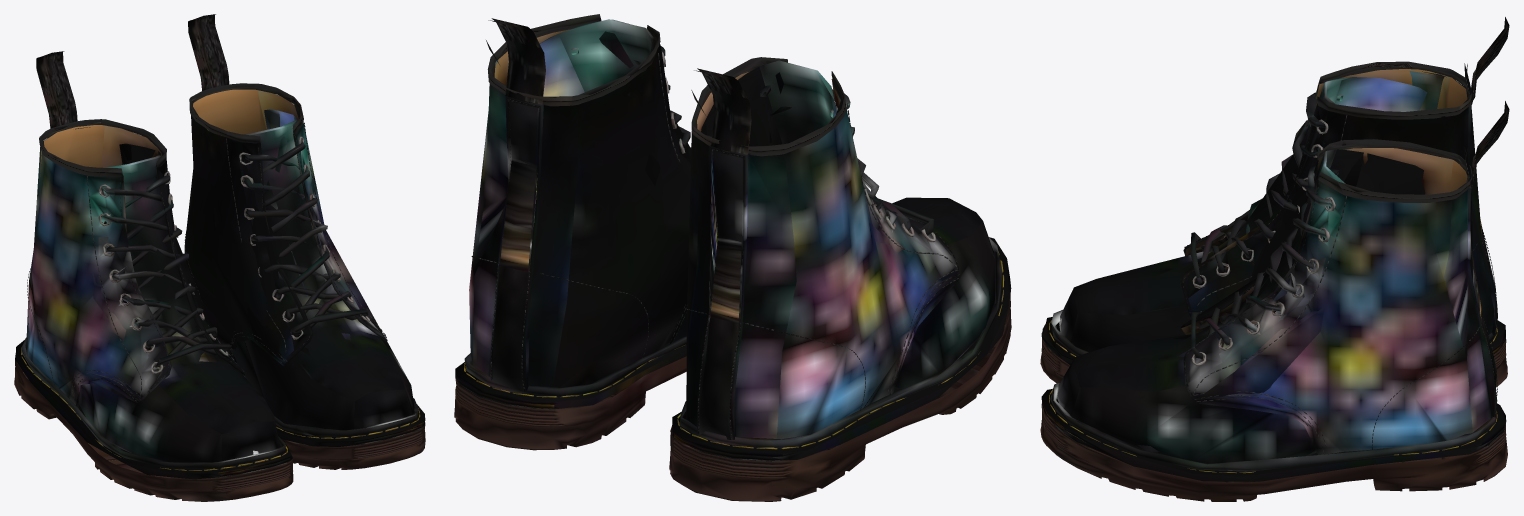
File: loader-boots.glb
3 renders of one model, left to right at view 1: azimuth 30°, elevation 25°; view 2: azimuth 150°, elevation 25°; view 3: azimuth 270°, elevation 25°, orthographic. The views are drawn at different scales.
Parts seen in each view (by area): view 1: Shoe(Left)_sole_black%2E001_Shoe(Left)_sole_black%2E001_n3d; view 2: Shoe(Left)_sole_black%2E001_Shoe(Left)_sole_black%2E001_n3d; view 3: Shoe(Left)_sole_black%2E001_Shoe(Left)_sole_black%2E001_n3d.
Boxes of the visible parts, x1,y1,x2,y2 form: Shoe(Left)_sole_black%2E001_Shoe(Left)_sole_black%2E001_n3d: [14, 14, 425, 501]; Shoe(Left)_sole_black%2E001_Shoe(Left)_sole_black%2E001_n3d: [454, 14, 1011, 501]; Shoe(Left)_sole_black%2E001_Shoe(Left)_sole_black%2E001_n3d: [1040, 17, 1509, 501].
Bounding box in the file's own units: 3.76 × 3.93 × 4.65.
8 materials, 8 textured.
